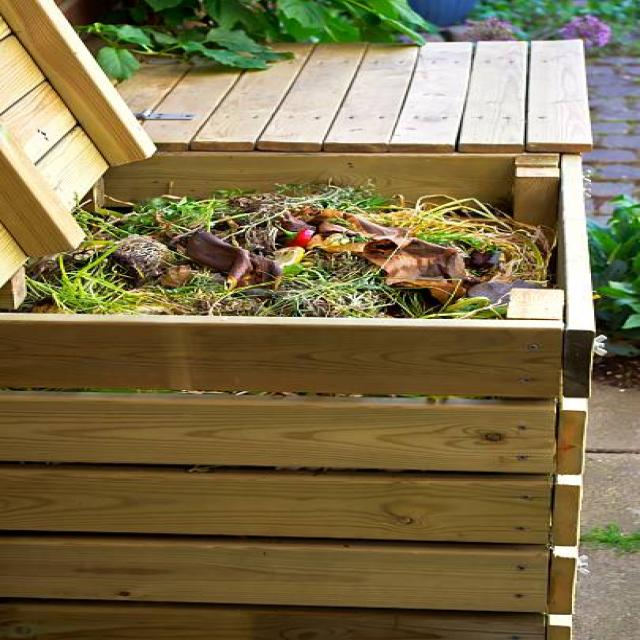Organic: (56, 169, 538, 315)
